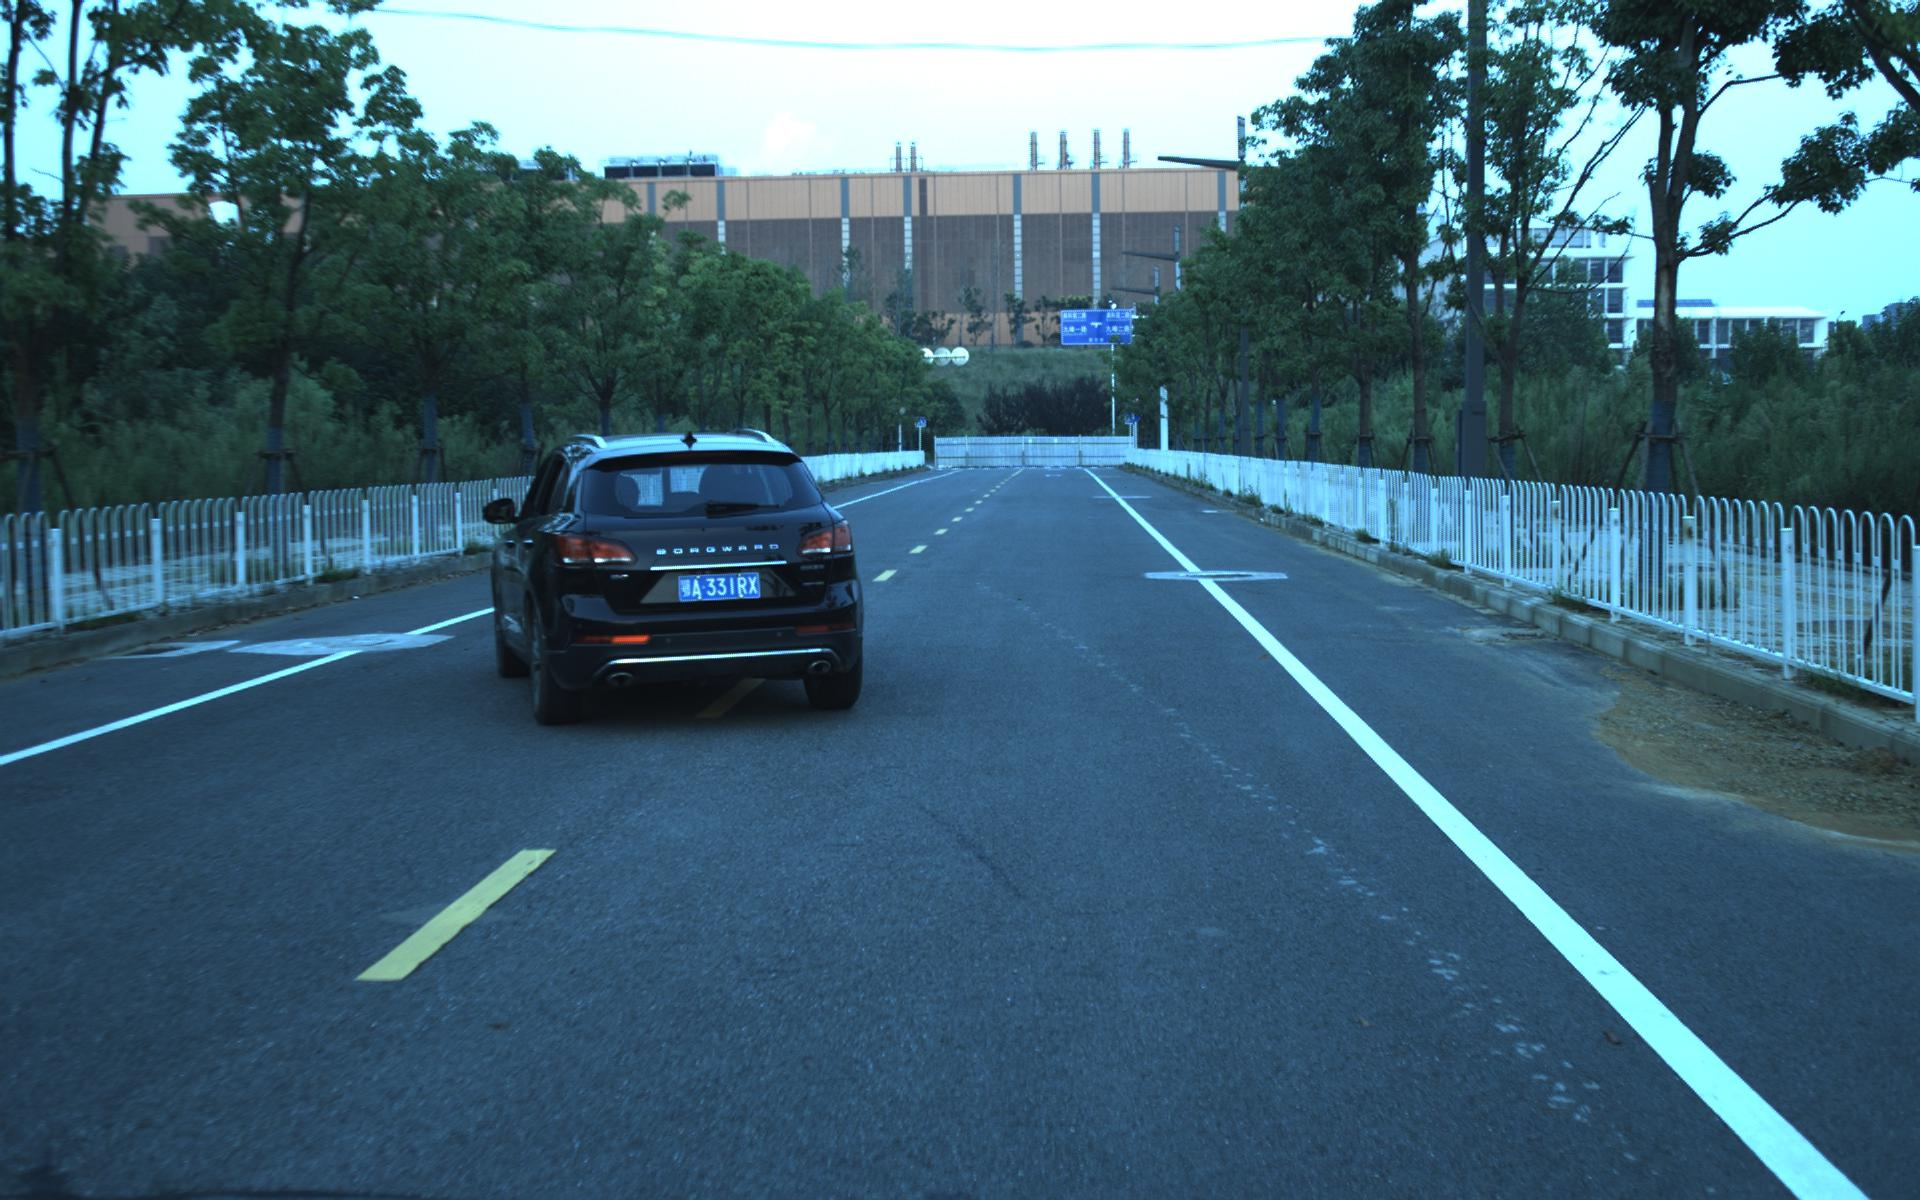Car: (480, 422, 874, 734)
